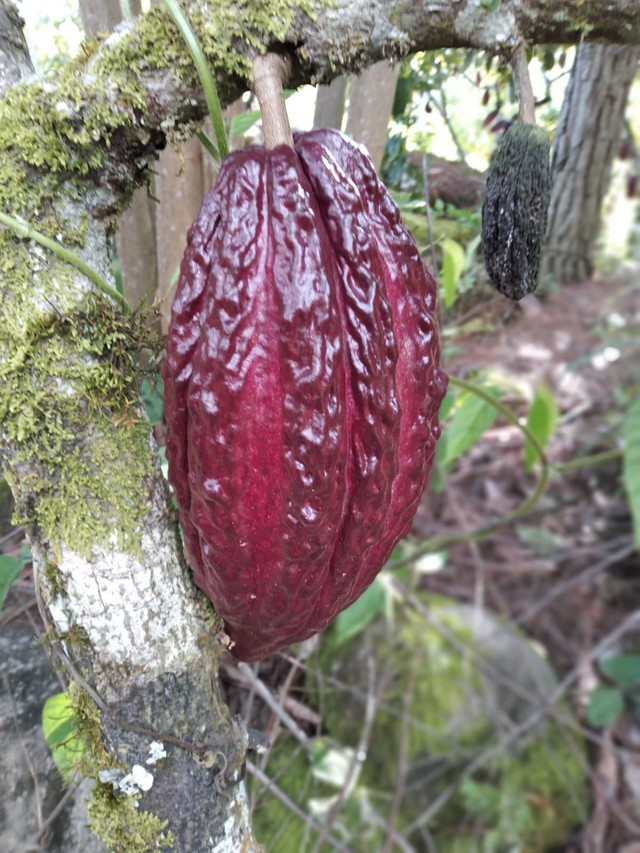Health: (147, 106, 461, 674)
